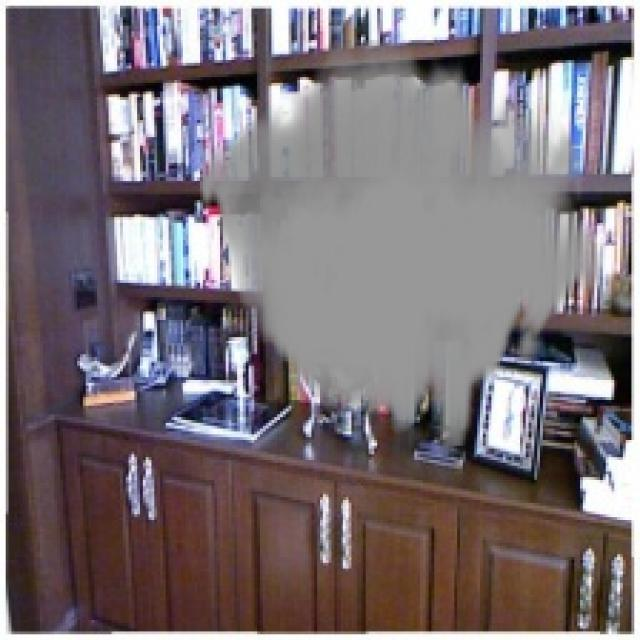Smoke: (197, 40, 603, 446)
